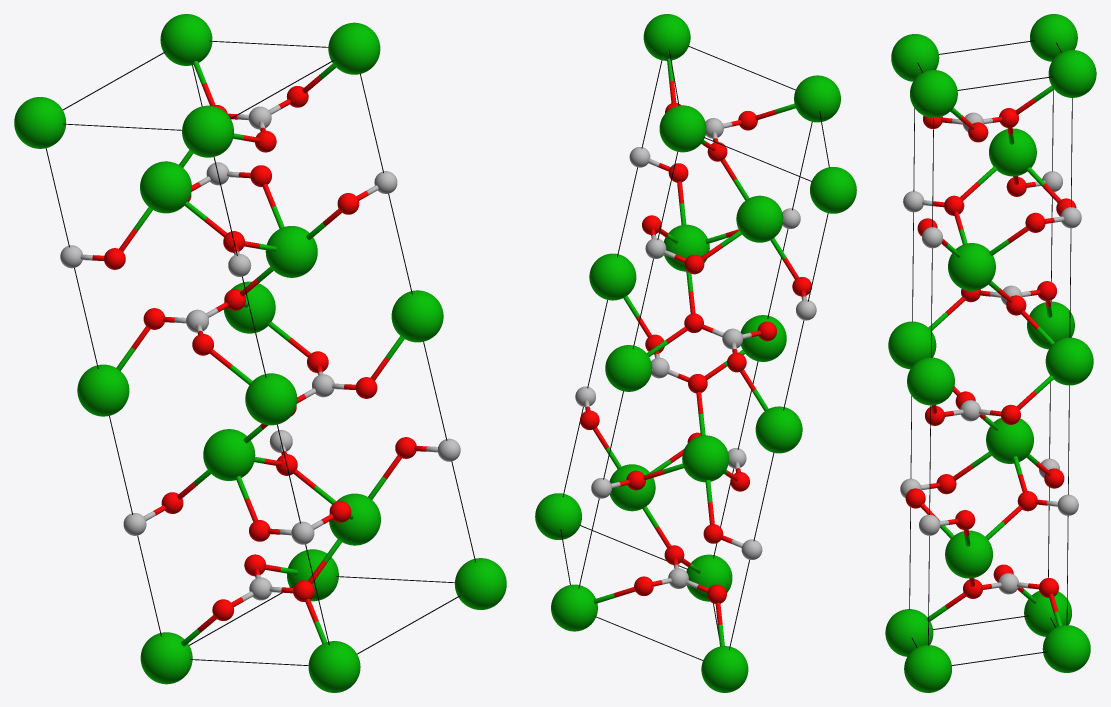
Rendered from CaCO3.glb.
3 renders of one model, left to right at view 1: azimuth 30°, elevation 25°; view 2: azimuth 150°, elevation 25°; view 3: azimuth 270°, elevation 25°, orthographic. The views are drawn at different scales.
Visible parts, largest first — view 1: CMAtom_46, CMAtom_38, CMAtom_39, CMAtom_49, CMAtom_5, CMAtom_32, CMAtom_45, CMAtom_31, CMAtom_44, CMAtom_0, CMAtom_37, CMAtom_3 (+4 smaller); view 2: CMAtom_0, CMAtom_32, CMAtom_39, CMAtom_5, CMAtom_1, CMAtom_31, CMAtom_37, CMAtom_45, CMAtom_3, CMAtom_44, CMAtom_38, CMAtom_30 (+8 smaller); view 3: CMAtom_39, CMAtom_30, CMAtom_0, CMAtom_1, CMAtom_38, CMAtom_44, CMAtom_2, CMAtom_4, CMAtom_5, CMAtom_45, CMAtom_31, CMAtom_46 (+15 smaller).
Part boxes in pixels (bbox=[...]): CMAtom_46: bbox=[245, 373, 297, 425]; CMAtom_38: bbox=[328, 22, 380, 74]; CMAtom_39: bbox=[391, 290, 443, 342]; CMAtom_49: bbox=[308, 641, 360, 692]; CMAtom_5: bbox=[140, 161, 191, 213]; CMAtom_32: bbox=[77, 364, 129, 416]; CMAtom_45: bbox=[182, 105, 233, 157]; CMAtom_31: bbox=[14, 97, 66, 148]; CMAtom_44: bbox=[454, 558, 506, 609]; CMAtom_0: bbox=[160, 14, 212, 65]; CMAtom_37: bbox=[140, 632, 192, 684]; CMAtom_3: bbox=[203, 429, 255, 480]; CMAtom_0: bbox=[659, 105, 706, 152]; CMAtom_32: bbox=[755, 406, 802, 453]; CMAtom_39: bbox=[589, 253, 636, 300]; CMAtom_5: bbox=[736, 195, 783, 242]; CMAtom_1: bbox=[605, 345, 652, 391]; CMAtom_31: bbox=[810, 167, 856, 213]; CMAtom_37: bbox=[701, 646, 748, 692]; CMAtom_45: bbox=[794, 75, 840, 122]; CMAtom_3: bbox=[682, 435, 728, 482]; CMAtom_44: bbox=[535, 493, 581, 539]; CMAtom_38: bbox=[643, 14, 690, 60]; CMAtom_30: bbox=[551, 584, 597, 631]; CMAtom_39: bbox=[907, 357, 954, 405]; CMAtom_30: bbox=[1042, 625, 1090, 672]; CMAtom_0: bbox=[1048, 50, 1096, 97]; CMAtom_1: bbox=[1045, 337, 1093, 385]; CMAtom_38: bbox=[910, 70, 957, 117]; CMAtom_44: bbox=[904, 645, 951, 692]; CMAtom_2: bbox=[948, 243, 995, 290]; CMAtom_4: bbox=[945, 530, 992, 578]; CMAtom_5: bbox=[989, 128, 1036, 176]; CMAtom_45: bbox=[891, 34, 939, 81]; CMAtom_31: bbox=[1030, 14, 1077, 61]; CMAtom_46: bbox=[888, 321, 936, 369].
Bounding box in the file's own units: 12.9 × 19.82 × 6.12.
